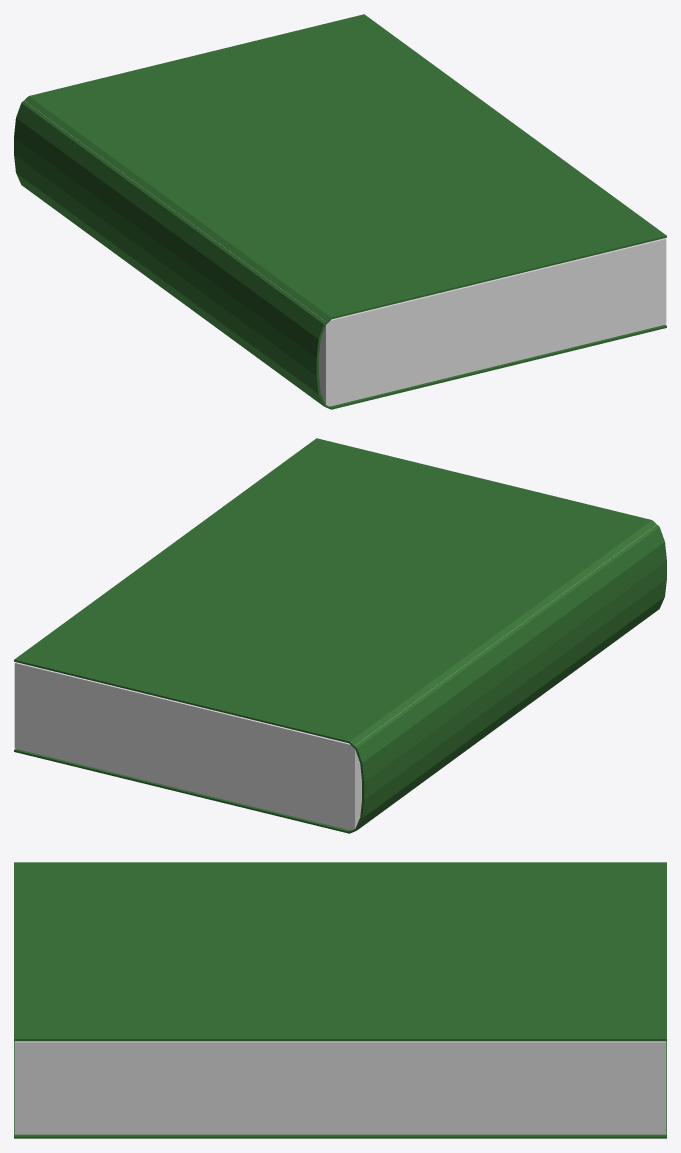
Rendered from Book 3.fbx.
3 renders of one model, top to bottom at view 1: azimuth 30°, elevation 25°; view 2: azimuth 150°, elevation 25°; view 3: azimuth 270°, elevation 25°, orthographic. The views are drawn at different scales.
Parts seen in each view (by area): view 1: Cover, Thicc paper; view 2: Cover, Thicc paper; view 3: Cover, Thicc paper.
Part boxes in pixels (box(x1,y1,x2,y2)): Cover: box(14, 14, 666, 409); Thicc paper: box(25, 101, 666, 406); Cover: box(14, 438, 666, 833); Thicc paper: box(14, 525, 655, 830); Cover: box(14, 862, 666, 1138); Thicc paper: box(14, 1041, 666, 1134).
Size of the model in its own units: 12.85 by 3.23 by 19.23.
